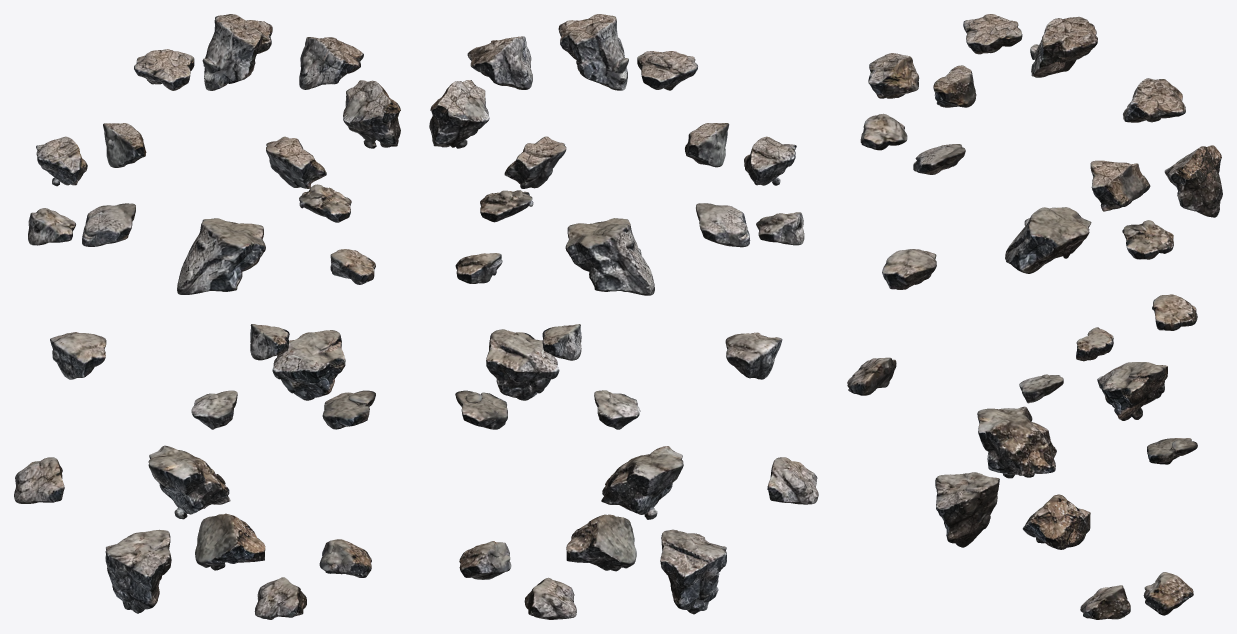
The model's file is stones.glb.
3 renders of one model, left to right at view 1: azimuth 30°, elevation 25°; view 2: azimuth 150°, elevation 25°; view 3: azimuth 330°, elevation 25°, orthographic. The views are drawn at different scales.
Parts seen in each view (by area): view 1: tripo_node_053d55f1-bdb3-43aa-be1d-8b3eb5e772e6; view 2: tripo_node_053d55f1-bdb3-43aa-be1d-8b3eb5e772e6; view 3: tripo_node_053d55f1-bdb3-43aa-be1d-8b3eb5e772e6.
Part boxes in pixels (bbox=[...]): tripo_node_053d55f1-bdb3-43aa-be1d-8b3eb5e772e6: bbox=[14, 14, 400, 619]; tripo_node_053d55f1-bdb3-43aa-be1d-8b3eb5e772e6: bbox=[429, 14, 818, 619]; tripo_node_053d55f1-bdb3-43aa-be1d-8b3eb5e772e6: bbox=[847, 14, 1222, 619].
Size of the model in its own units: 0.6483 by 0.9791 by 0.1232.
Materials: 1 (1 with a texture image).
